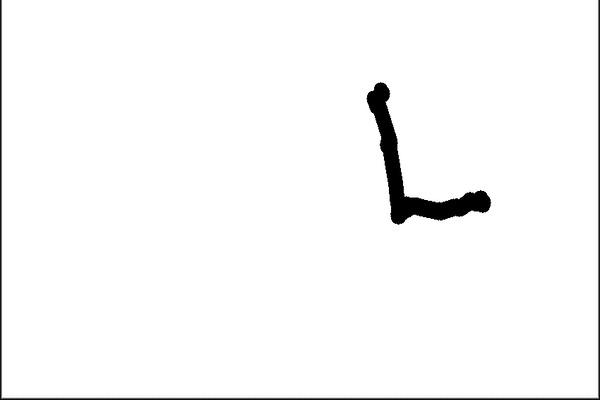L: (358, 75, 498, 229)
